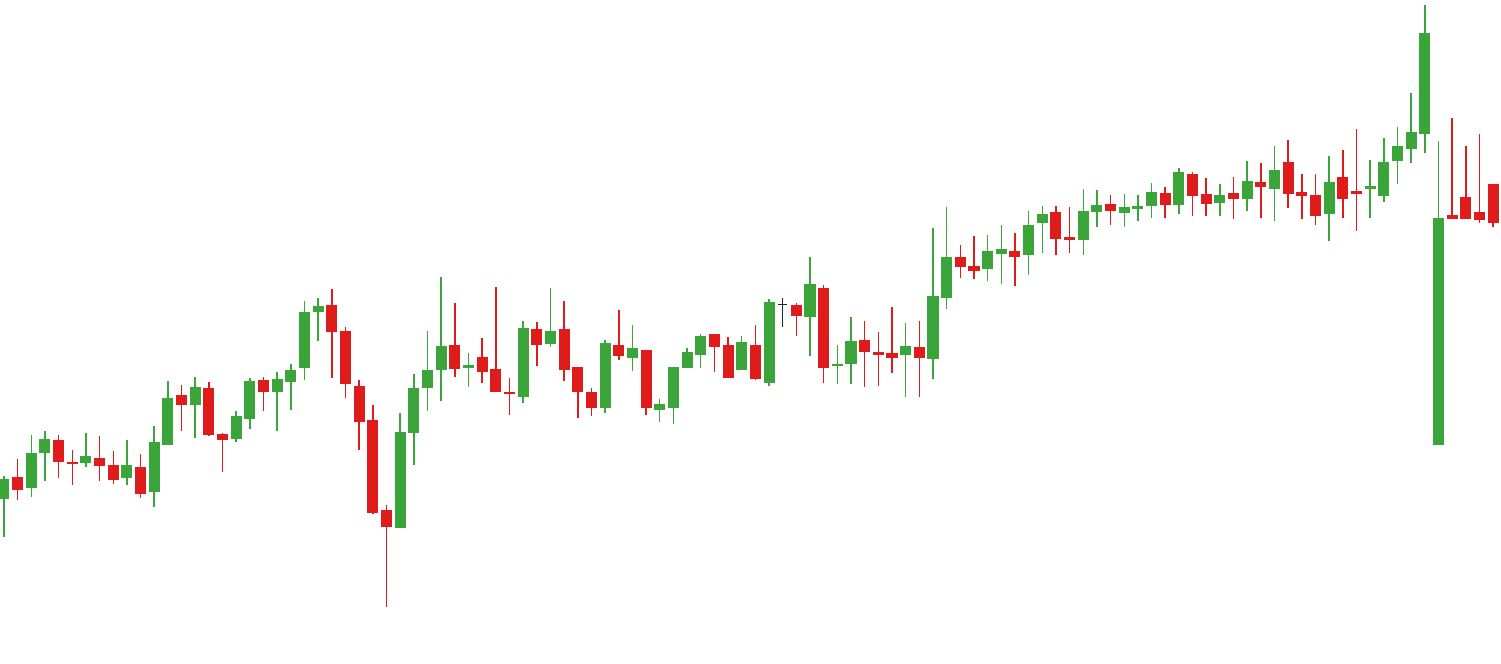buy: (130, 390, 407, 610), (571, 356, 680, 428)
